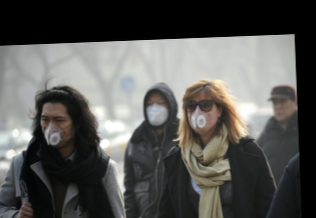with_mask: (39, 110, 71, 147), (187, 96, 218, 133), (145, 97, 168, 128)
without_mask: (271, 96, 293, 121)
